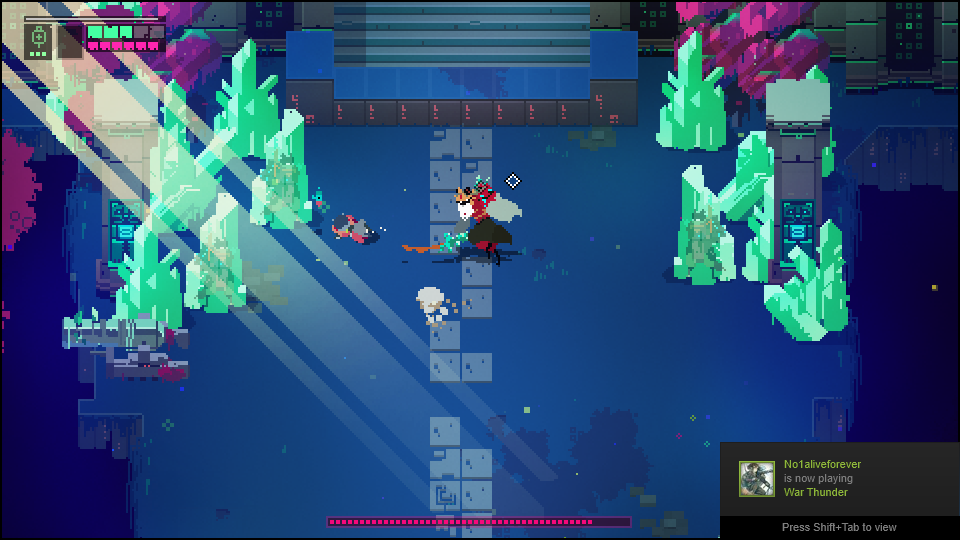hanged_man: (425, 173, 527, 263)
player: (330, 211, 379, 247)
